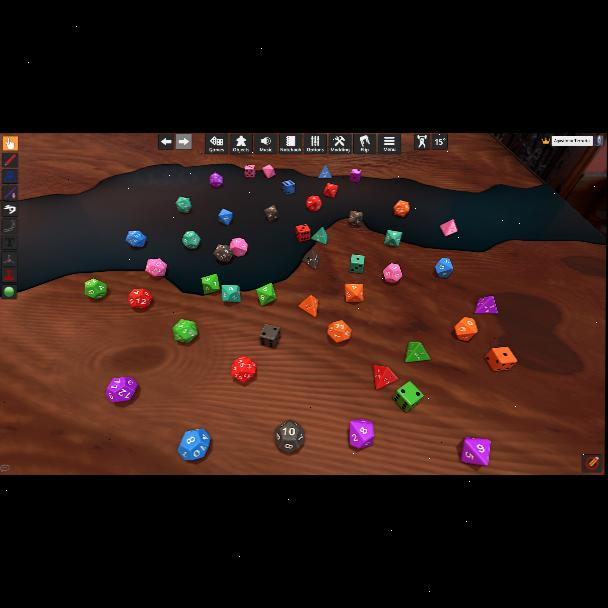d10: (350, 418, 374, 448), (454, 317, 477, 341), (434, 258, 452, 278), (201, 274, 219, 294), (221, 285, 240, 303), (230, 238, 248, 256), (306, 196, 321, 212), (348, 210, 362, 226)
d12: (178, 428, 211, 459), (274, 420, 303, 452), (106, 376, 138, 401), (128, 288, 152, 310), (84, 278, 107, 300), (328, 322, 349, 342), (182, 230, 201, 250), (383, 263, 401, 283)
d20: (231, 356, 257, 382), (172, 320, 197, 342), (145, 258, 167, 278), (127, 230, 148, 248), (214, 244, 232, 262), (176, 196, 191, 214), (394, 201, 409, 217), (209, 173, 222, 189)
d4: (375, 366, 398, 390), (475, 296, 498, 314), (406, 342, 427, 360), (298, 295, 315, 316), (304, 250, 320, 270), (311, 227, 327, 245), (440, 220, 457, 236), (318, 165, 331, 179)
d6: (485, 347, 517, 372), (398, 381, 424, 411), (259, 326, 280, 348), (349, 254, 365, 274), (295, 224, 309, 242), (282, 180, 295, 194), (350, 170, 362, 183), (244, 164, 255, 178)
d8: (462, 436, 491, 466), (255, 284, 276, 306), (344, 282, 363, 302), (385, 231, 402, 247), (218, 208, 232, 226), (324, 182, 338, 198), (264, 205, 278, 221), (262, 164, 275, 178)
